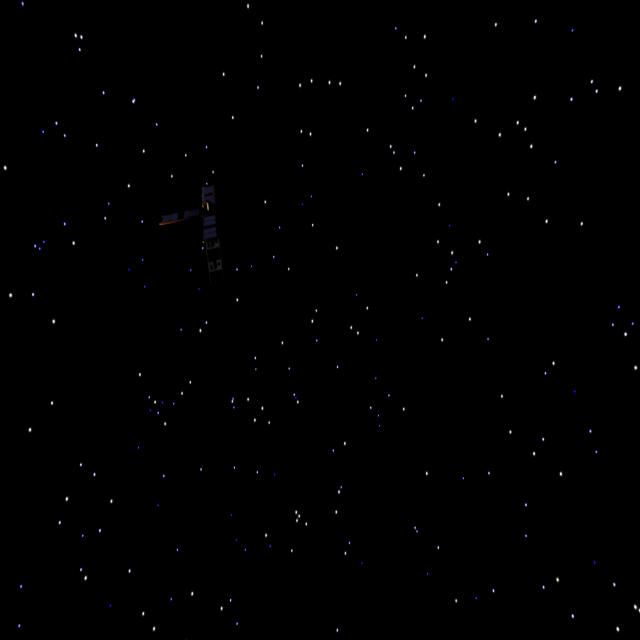satellite: (146, 174, 237, 286)
